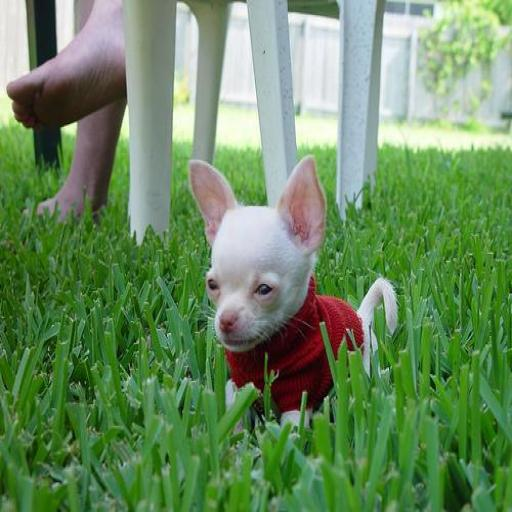dog_face: (186, 154, 316, 342)
